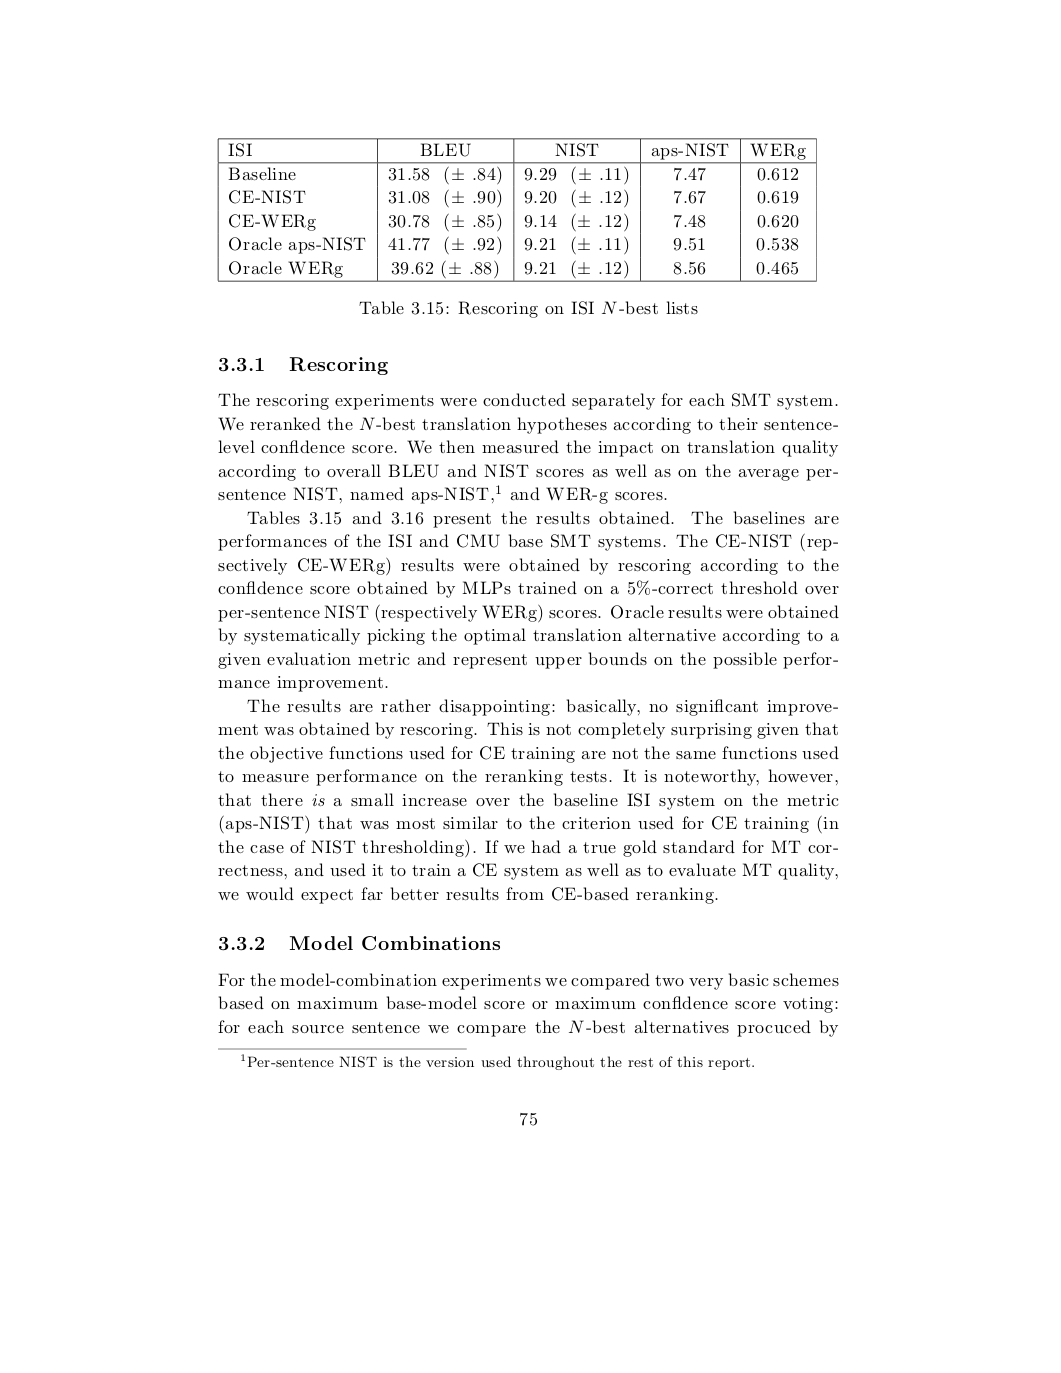Table: (217, 137, 816, 282)
